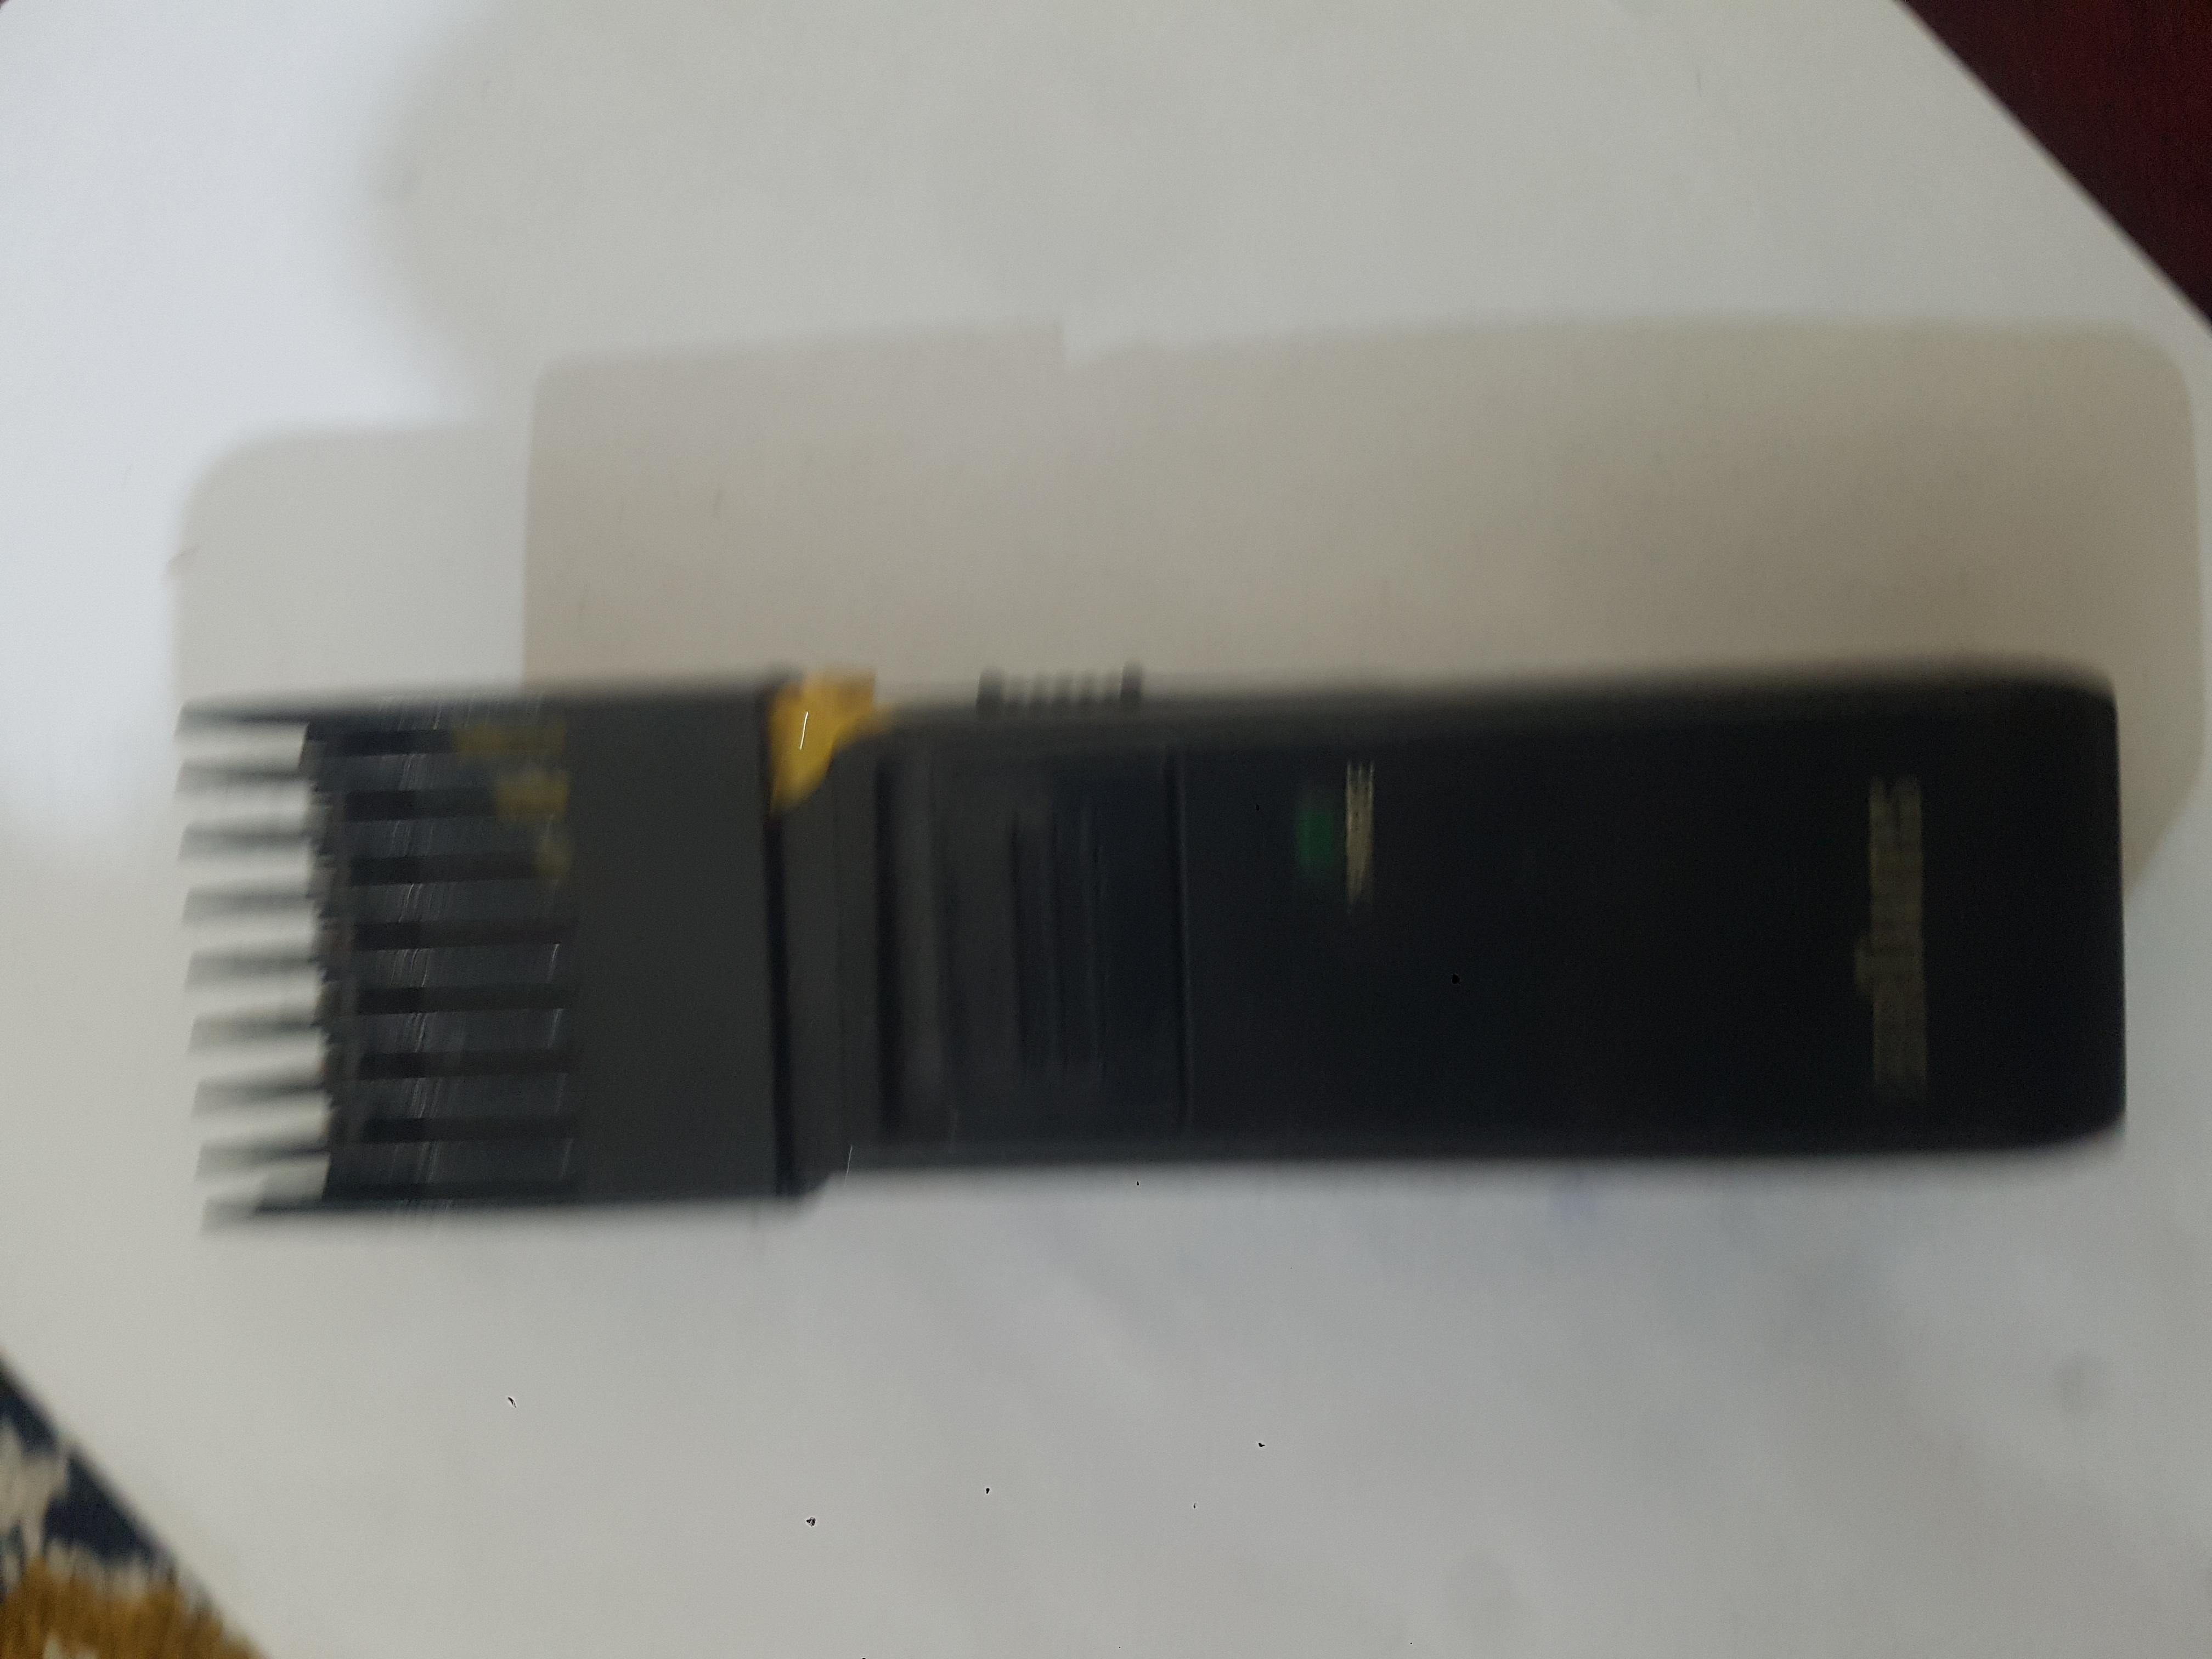electronic: (181, 648, 2130, 1260)
